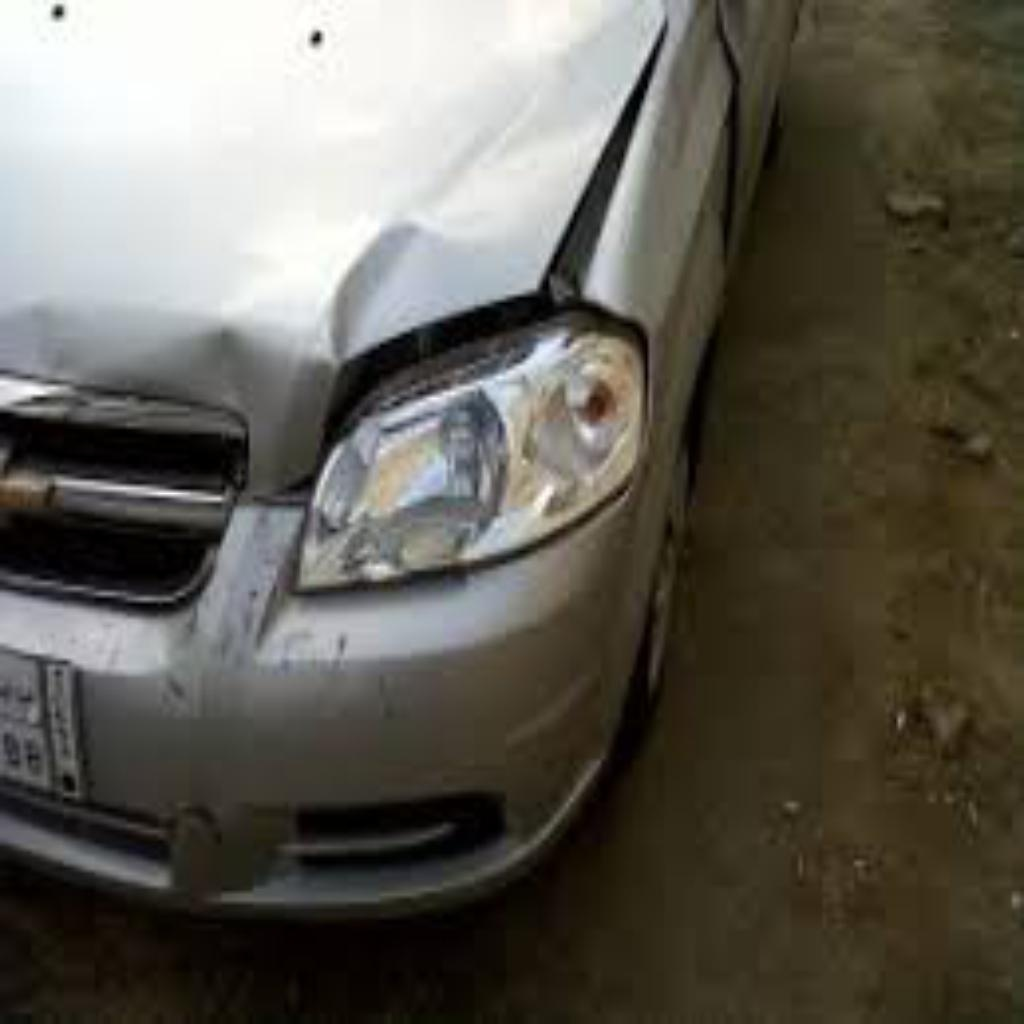Dent: (100, 214, 517, 517)
Scratch: (222, 607, 395, 714)
